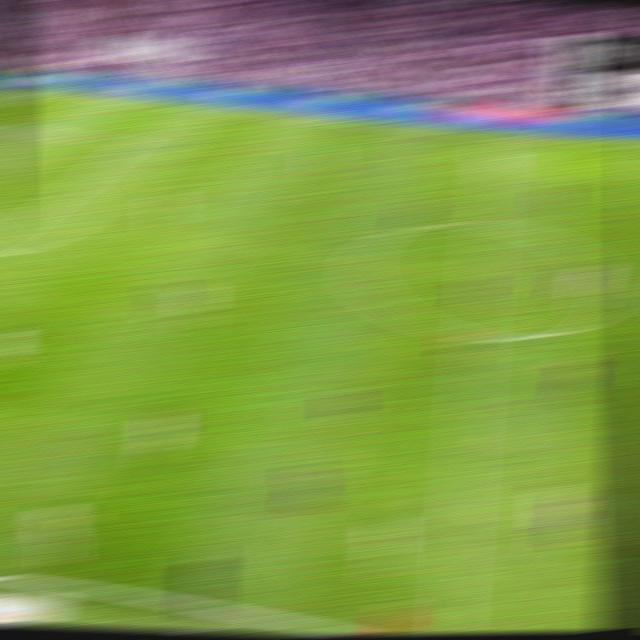bigarea_top_inner: (119, 137, 145, 148)
corner: (31, 86, 58, 94)
halfcircle_bottom: (460, 323, 491, 347)
halfcircle_top: (469, 212, 504, 236)
midline_top_intersection: (479, 129, 508, 141)
top_arc_area_intersection: (61, 180, 88, 192)
